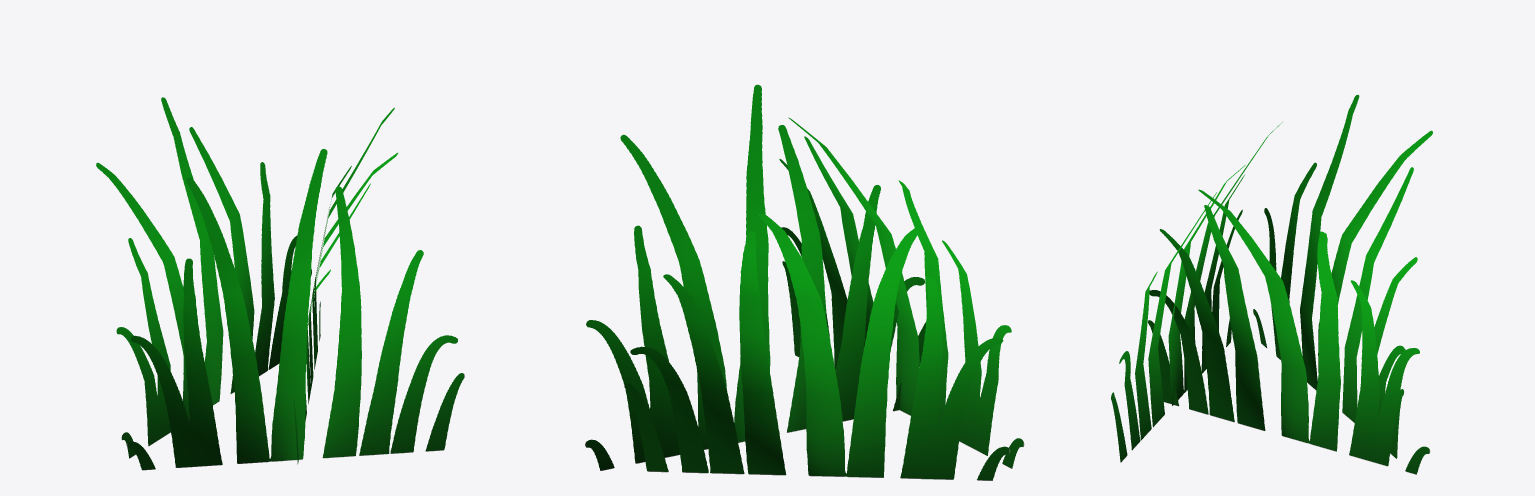
Rendered from Grass.fbx.
3 views of the same model, side by side, from view 1: azimuth 30°, elevation 25°; view 2: azimuth 150°, elevation 25°; view 3: azimuth 270°, elevation 25° (orthographic). The views are drawn at different scales.
Parts seen in each view (by area): view 1: Grass; view 2: Grass; view 3: Grass.
Boxes of the visible parts, <box> form: Grass: <box>96,97,464,470</box>; Grass: <box>585,84,1024,480</box>; Grass: <box>1111,95,1432,474</box>.
Size of the model in its own units: 67.86 by 43.91 by 61.4.
